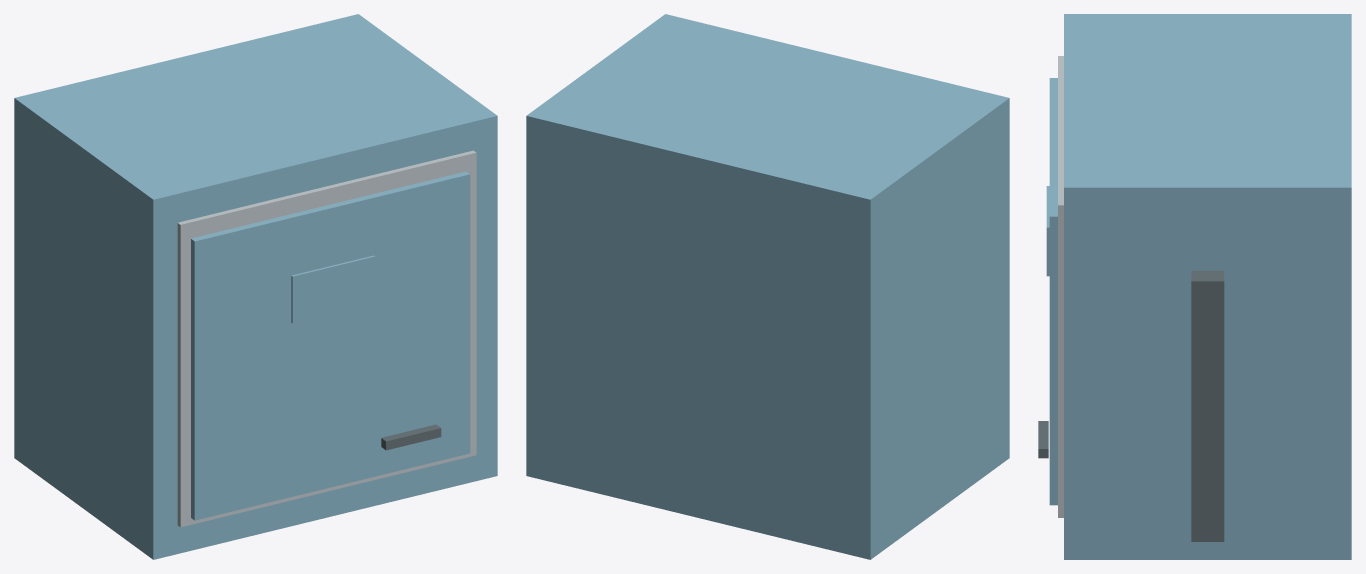
The model's file is forklift_charging_station.glb.
3 renders of one model, left to right at view 1: azimuth 30°, elevation 25°; view 2: azimuth 150°, elevation 25°; view 3: azimuth 270°, elevation 25°, orthographic. The views are drawn at different scales.
Bounding box in the file's own units: 1.11 × 1 × 0.7625.
